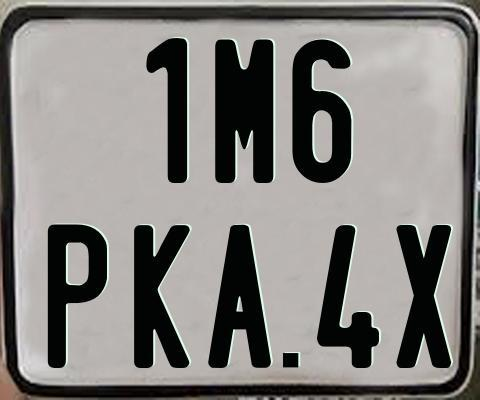1: (143, 38, 190, 189)
4: (314, 225, 379, 368)
6: (289, 38, 353, 184)
A: (206, 222, 269, 367)
K: (131, 222, 189, 365)
M: (215, 38, 276, 185)
P: (46, 222, 106, 372)
X: (395, 224, 453, 368)
